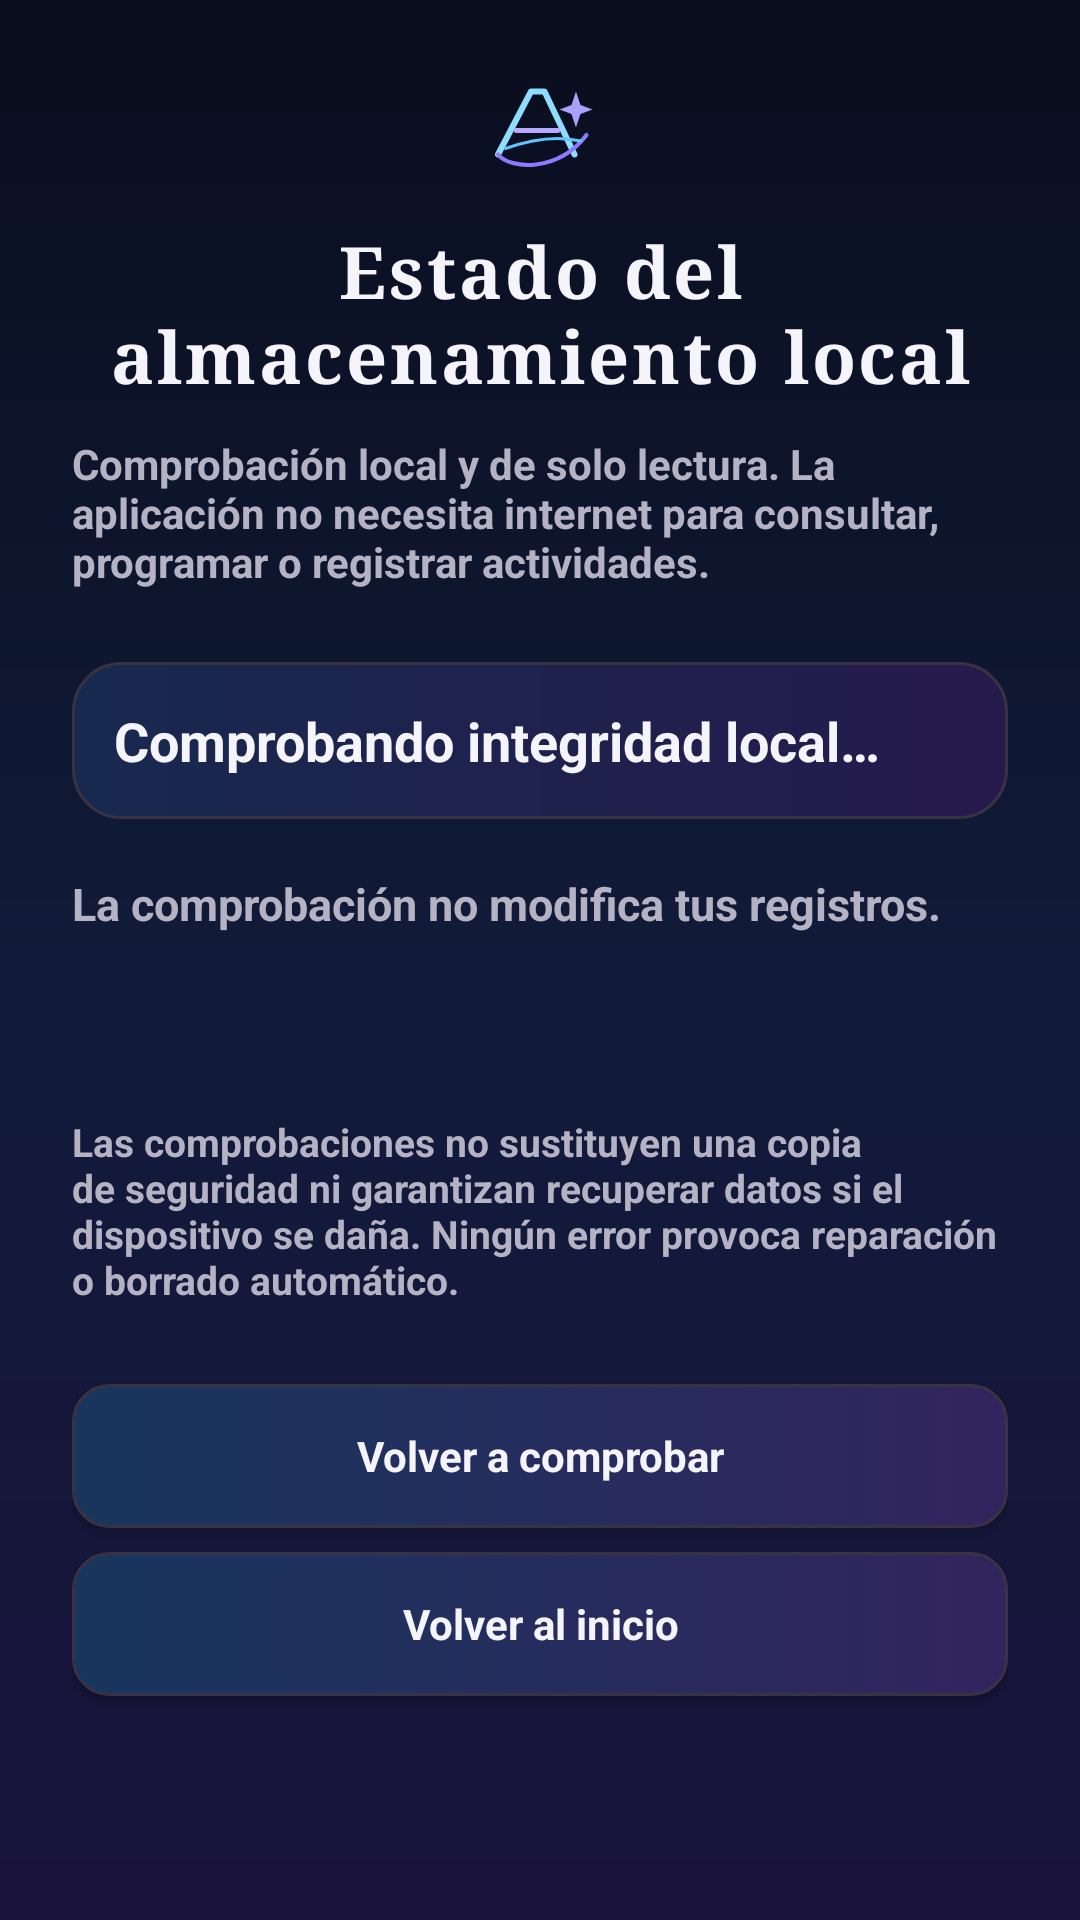

Icon click points for this 1080 × 1920 phone screenshot, format [x,y]:
asterion crest: [544,127]
